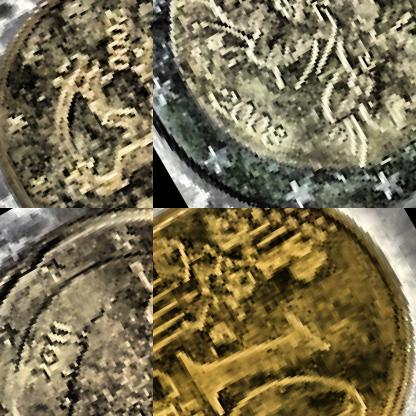coin: (153, 0, 415, 207), (153, 208, 415, 415), (0, 0, 152, 207), (0, 208, 152, 415)
